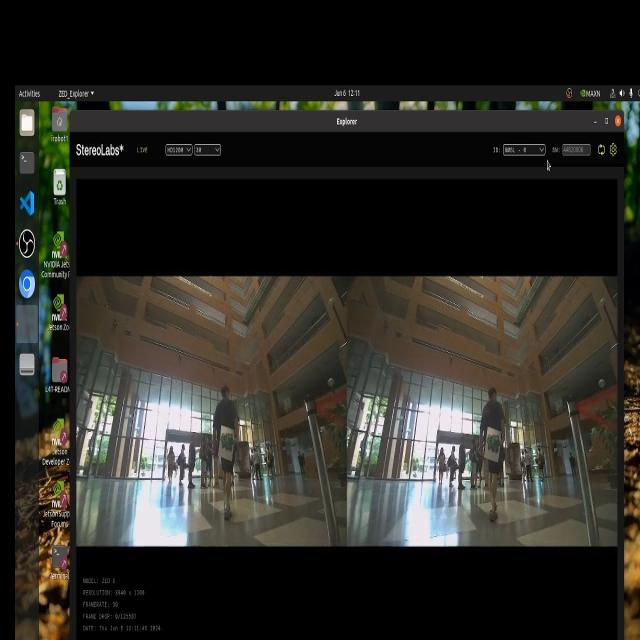green: (219, 427, 244, 457), (484, 428, 502, 449)
